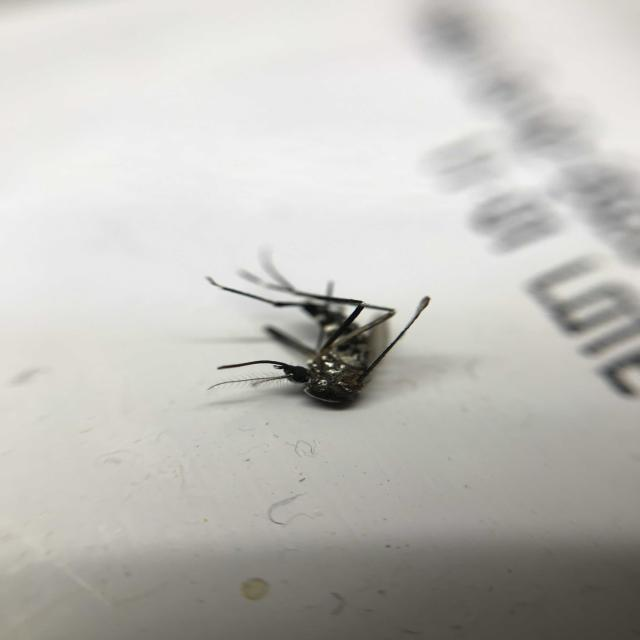albopictus: (192, 236, 443, 411)
